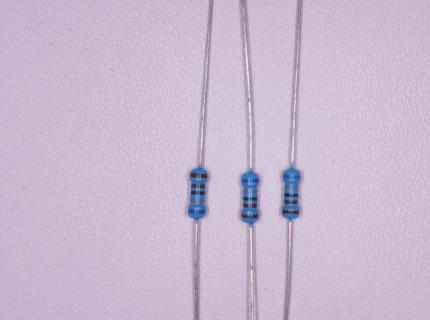Black band: (243, 196, 257, 201), (191, 191, 206, 195), (284, 193, 298, 197)
Blue band: (188, 209, 206, 214), (241, 179, 259, 183), (283, 175, 301, 179)
Brown band: (190, 173, 208, 179), (242, 214, 259, 219), (283, 209, 300, 214), (191, 184, 206, 189), (243, 204, 257, 208), (284, 200, 298, 204)
Grey band: (243, 189, 258, 193), (191, 199, 205, 203), (284, 186, 298, 189)
